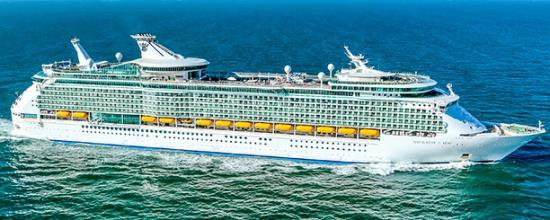youlun: (7, 27, 531, 168)
